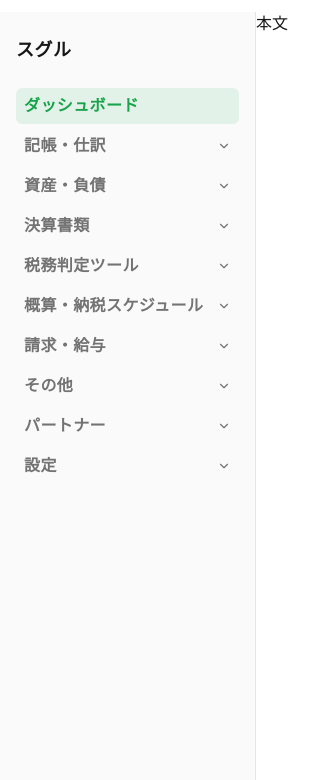
Scenario: AppShell › あるグループを開くと、それまで開いていた別のグループは自動的に閉じる（単一展開）
Click the button "記帳・仕訳": (128, 146) [16,128,239,164]
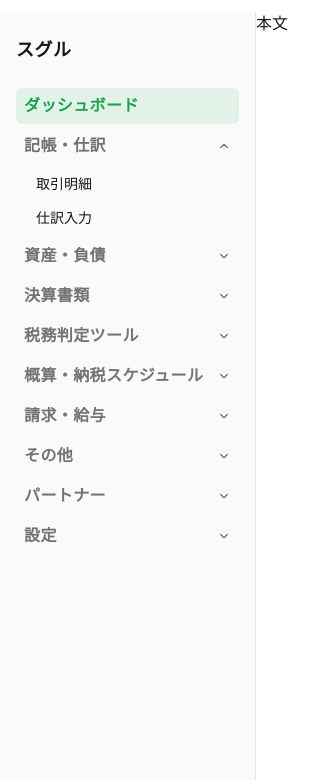
Expected: the button "記帳・仕訳" is expanded, [16,128,239,164]
Click the button "資産・負債": (128, 256) [16,238,239,274]
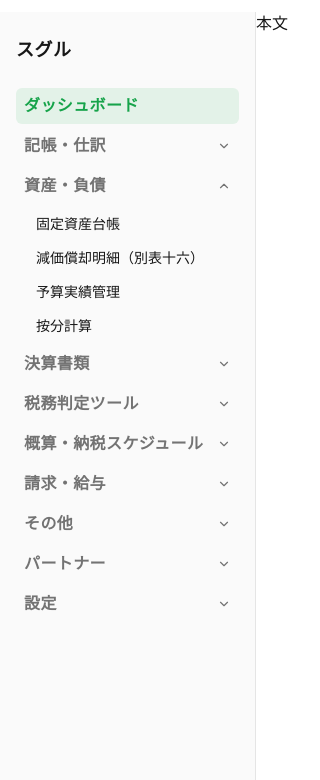
Expected: the button "資産・負債" is expanded, [16,168,239,204]
Expected: the button "記帳・仕訳" is collapsed, [16,128,239,164]
